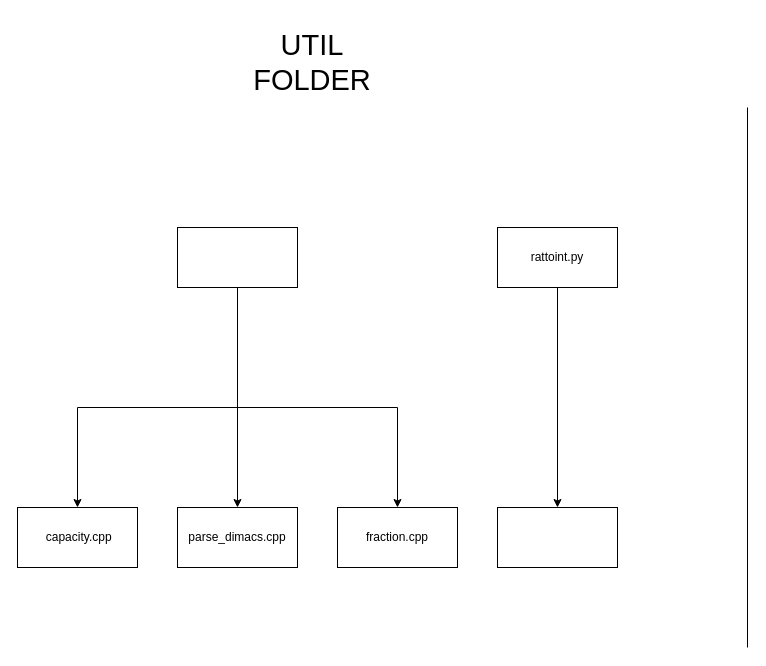
Some shapes in this 766 by 666 pixel diagram are drawn without their labels. The centre of each missing label's shape, as x and y in pixels:
Parsing.py: point (237, 257)
scale_rationals.cpp: point (557, 537)
